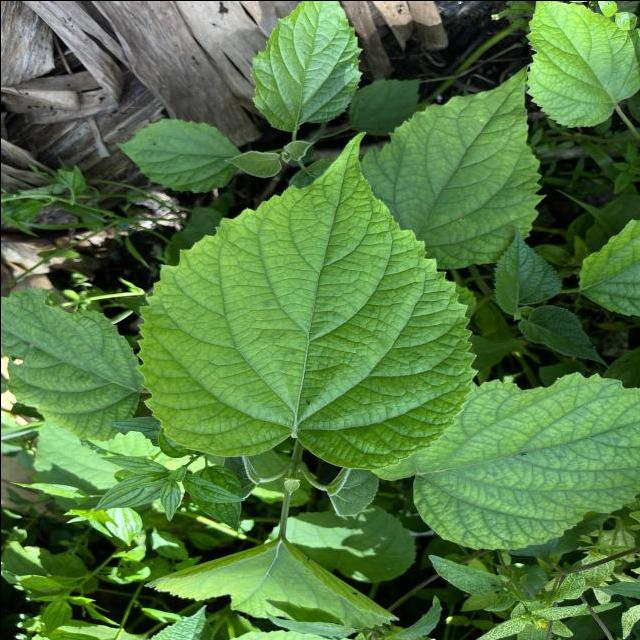Clerodendrum infortunatum: (132, 128, 482, 472), (368, 368, 640, 552), (357, 59, 550, 272), (0, 284, 143, 444)
